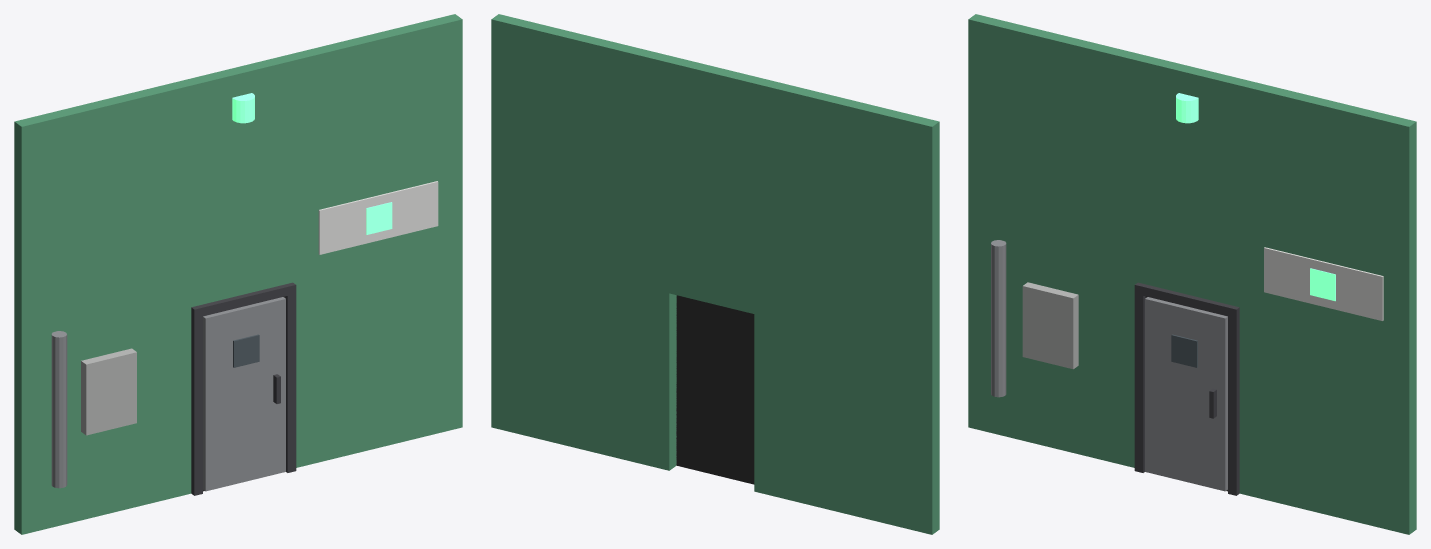
The model's file is EQ_RefugeBulkhead.glb.
3 renders of one model, left to right at view 1: azimuth 30°, elevation 25°; view 2: azimuth 150°, elevation 25°; view 3: azimuth 330°, elevation 25°, orthographic.
Visible parts, largest first — view 1: RC_Bulkhead, RC_Door, RC_Beacon_On; view 2: RC_Bulkhead, RC_Door; view 3: RC_Bulkhead, RC_Door, RC_Beacon_On.
Boxes of the visible parts, x1,y1,x2,y2 form: RC_Bulkhead: (14,14,462,534); RC_Door: (203,296,285,491); RC_Beacon_On: (232,93,254,123); RC_Bulkhead: (491,14,939,534); RC_Door: (676,295,754,484); RC_Bulkhead: (968,14,1416,534); RC_Door: (1145,296,1227,491); RC_Beacon_On: (1176,93,1198,123).
Bounding box in the file's own units: 5.2 × 4.6 × 0.305.
